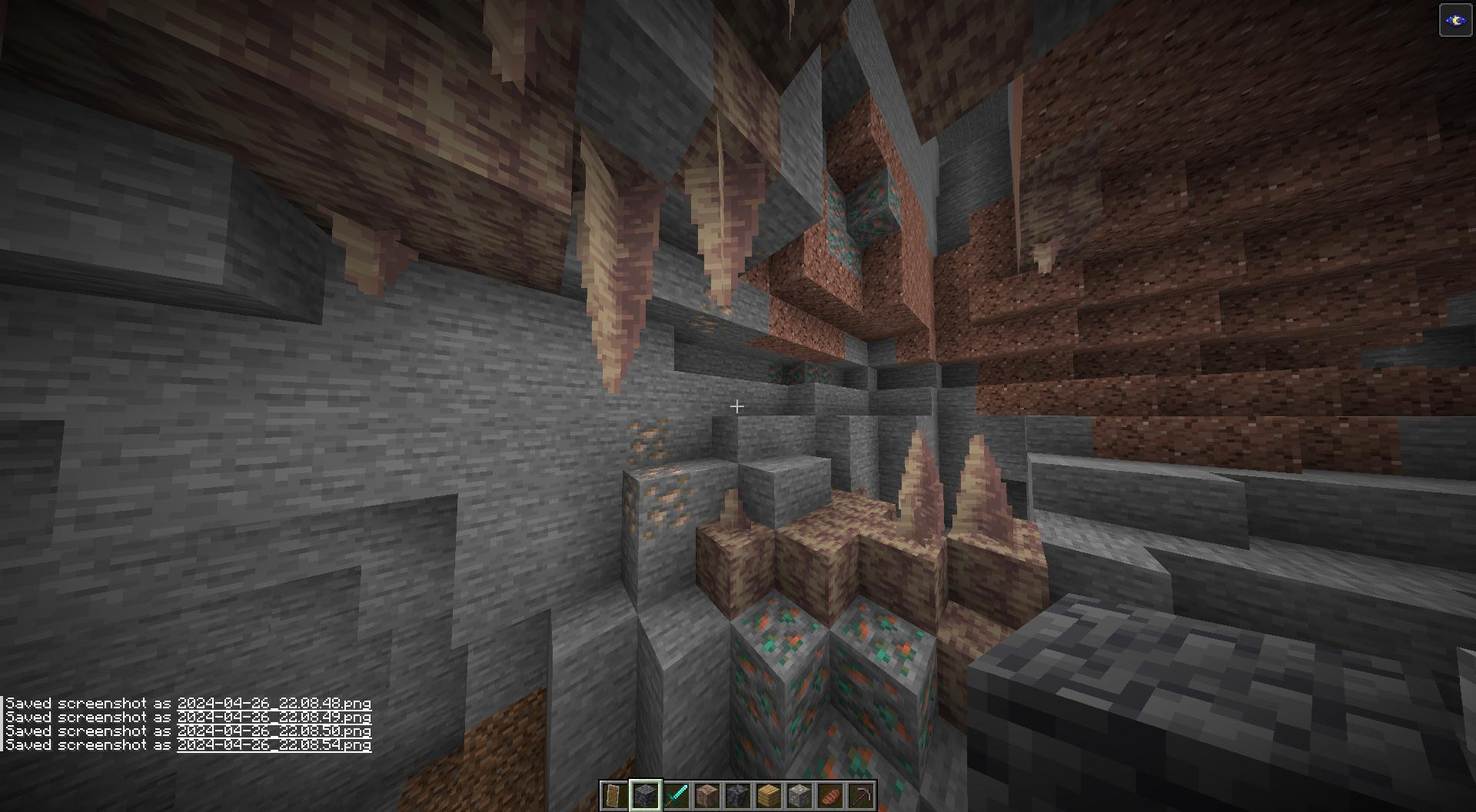iron ore: (624, 465, 692, 533), (629, 416, 675, 466), (687, 308, 725, 336)
